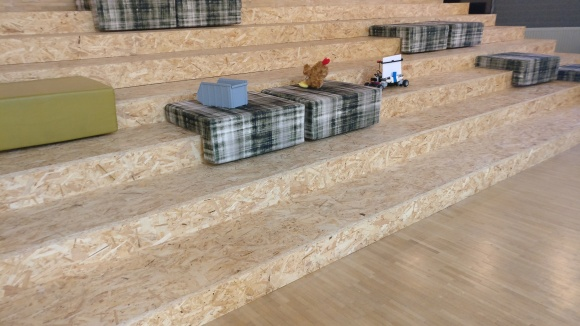car: (364, 53, 412, 91)
chicken: (296, 57, 331, 90)
tray: (195, 76, 249, 109)
